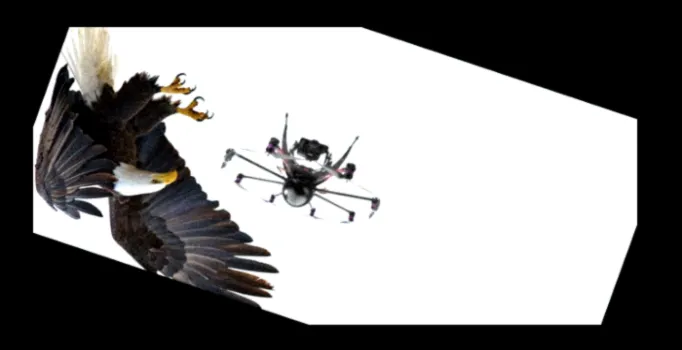Bird: (32, 29, 282, 305)
UAV: (219, 94, 385, 233)
